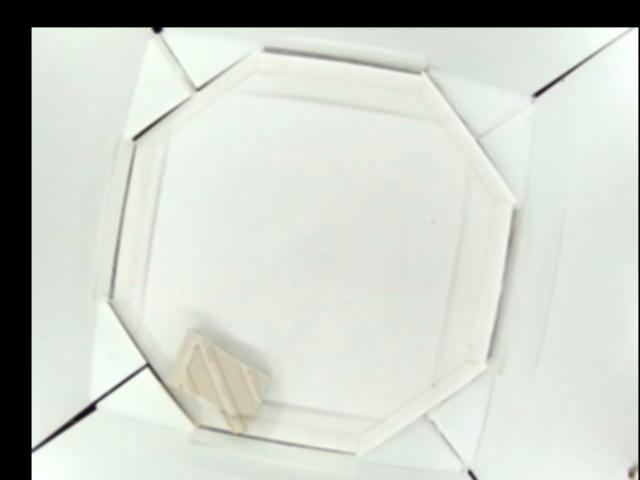China: (166, 328, 264, 435)
